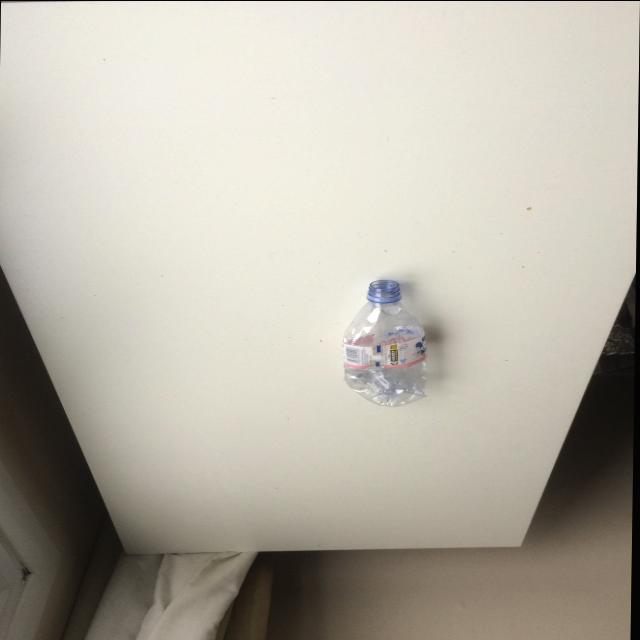Plastic: (328, 266, 438, 412)
